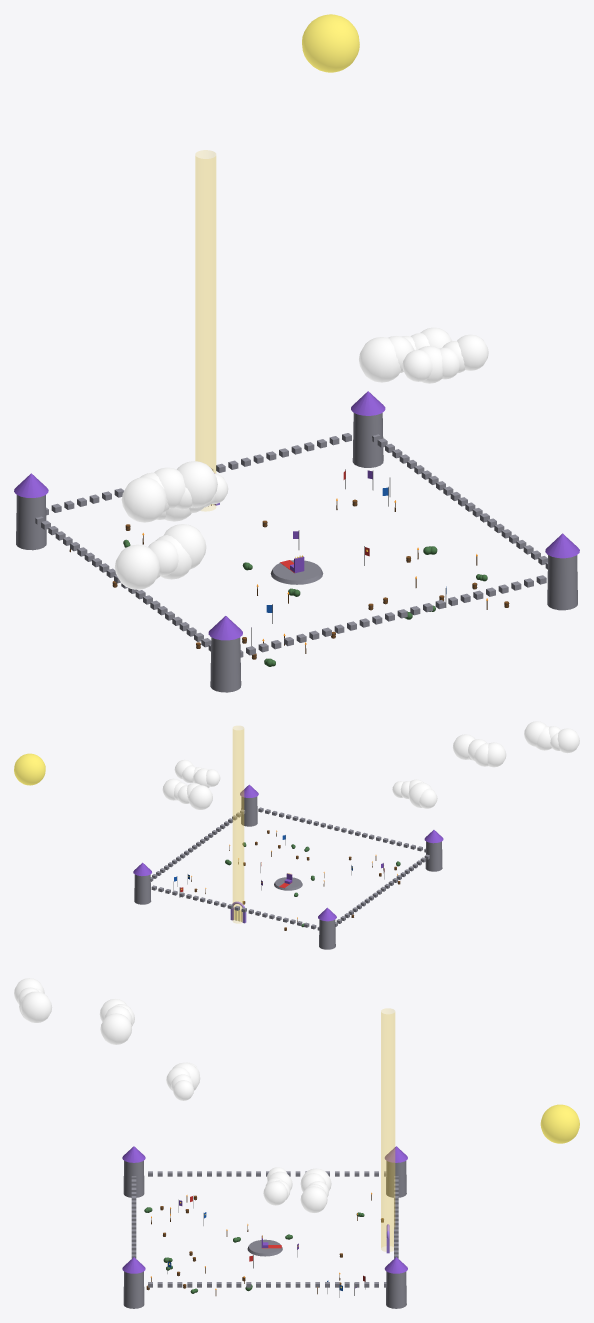
The model's file is 10-castle.glb.
3 renders of one model, top to bottom at view 1: azimuth 30°, elevation 25°; view 2: azimuth 150°, elevation 25°; view 3: azimuth 270°, elevation 25°, orthographic. The views are drawn at different scales.
Parts seen in each view (by area): view 1: beam, square 1,-1 (glow), square -4,3 (glow), square -2,-2 (lit), square 3,-5 (glow, no fog), square -2,2 (lit), square 2,-2 (lit), square -3,2 (glow), square 2,2 (lit), square -4,2 (glow), square 2,-1 (glow), square 0,0 (lit); view 2: beam, square -4,3 (glow), square 1,-1 (glow), square -2,-2 (lit), square -3,2 (glow), square 3,-5 (glow, no fog), square -2,2 (lit), square 2,-2 (lit), square -3,1 (glow), square 2,2 (lit), square 2,-1 (glow), square -4,2 (glow) (+1 smaller); view 3: beam, square -4,3 (glow), square 3,-5 (glow, no fog), square -2,-2 (lit), square 2,-2 (lit), square 2,-1 (glow), square -3,2 (glow), square -2,2 (lit), square 2,2 (lit), square 1,-1 (glow), square -3,1 (glow), square -2,1 (glow) (+1 smaller).
Part boxes in pixels (bbox=[...]): beam: bbox=[195, 150, 215, 511]; square 1,-1 (glow): bbox=[359, 333, 459, 502]; square -4,3 (glow): bbox=[114, 524, 206, 589]; square -2,-2 (lit): bbox=[14, 473, 143, 552]; square 3,-5 (glow, no fog): bbox=[302, 14, 359, 72]; square -2,2 (lit): bbox=[208, 616, 306, 692]; square 2,-2 (lit): bbox=[351, 391, 416, 468]; square -3,2 (glow): bbox=[140, 461, 217, 513]; square 2,2 (lit): bbox=[545, 533, 579, 610]; square -4,2 (glow): bbox=[121, 477, 166, 522]; square 2,-1 (glow): bbox=[420, 327, 488, 373]; square 0,0 (lit): bbox=[270, 546, 416, 587]; beam: bbox=[233, 726, 243, 923]; square -4,3 (glow): bbox=[524, 721, 579, 753]; square 1,-1 (glow): bbox=[174, 767, 220, 876]; square -2,-2 (lit): bbox=[283, 907, 353, 949]; square -3,2 (glow): bbox=[453, 734, 488, 766]; square 3,-5 (glow, no fog): bbox=[14, 753, 45, 785]; square -2,2 (lit): bbox=[389, 830, 443, 871]; square 2,-2 (lit): bbox=[133, 862, 169, 904]; square -3,1 (glow): bbox=[408, 779, 437, 808]; square 2,2 (lit): bbox=[240, 784, 258, 826]; square 2,-1 (glow): bbox=[162, 759, 195, 800]; square -4,2 (glow): bbox=[487, 742, 506, 767]; beam: bbox=[381, 1008, 394, 1251]; square -4,3 (glow): bbox=[14, 978, 52, 1022]; square 3,-5 (glow, no fog): bbox=[540, 1104, 579, 1143]; square -2,-2 (lit): bbox=[335, 1146, 407, 1220]; square 2,-2 (lit): bbox=[335, 1257, 407, 1308]; square 2,-1 (glow): bbox=[263, 1180, 327, 1212]; square -3,2 (glow): bbox=[100, 1004, 134, 1044]; square -2,2 (lit): bbox=[122, 1146, 145, 1200]; square 2,2 (lit): bbox=[122, 1257, 145, 1308]; square 1,-1 (glow): bbox=[265, 1167, 331, 1287]; square -3,1 (glow): bbox=[166, 1062, 200, 1090]; square -2,1 (glow): bbox=[170, 1074, 193, 1208].
Size of what is drawn, in the model's own units: 150 by 80.4 by 173.
